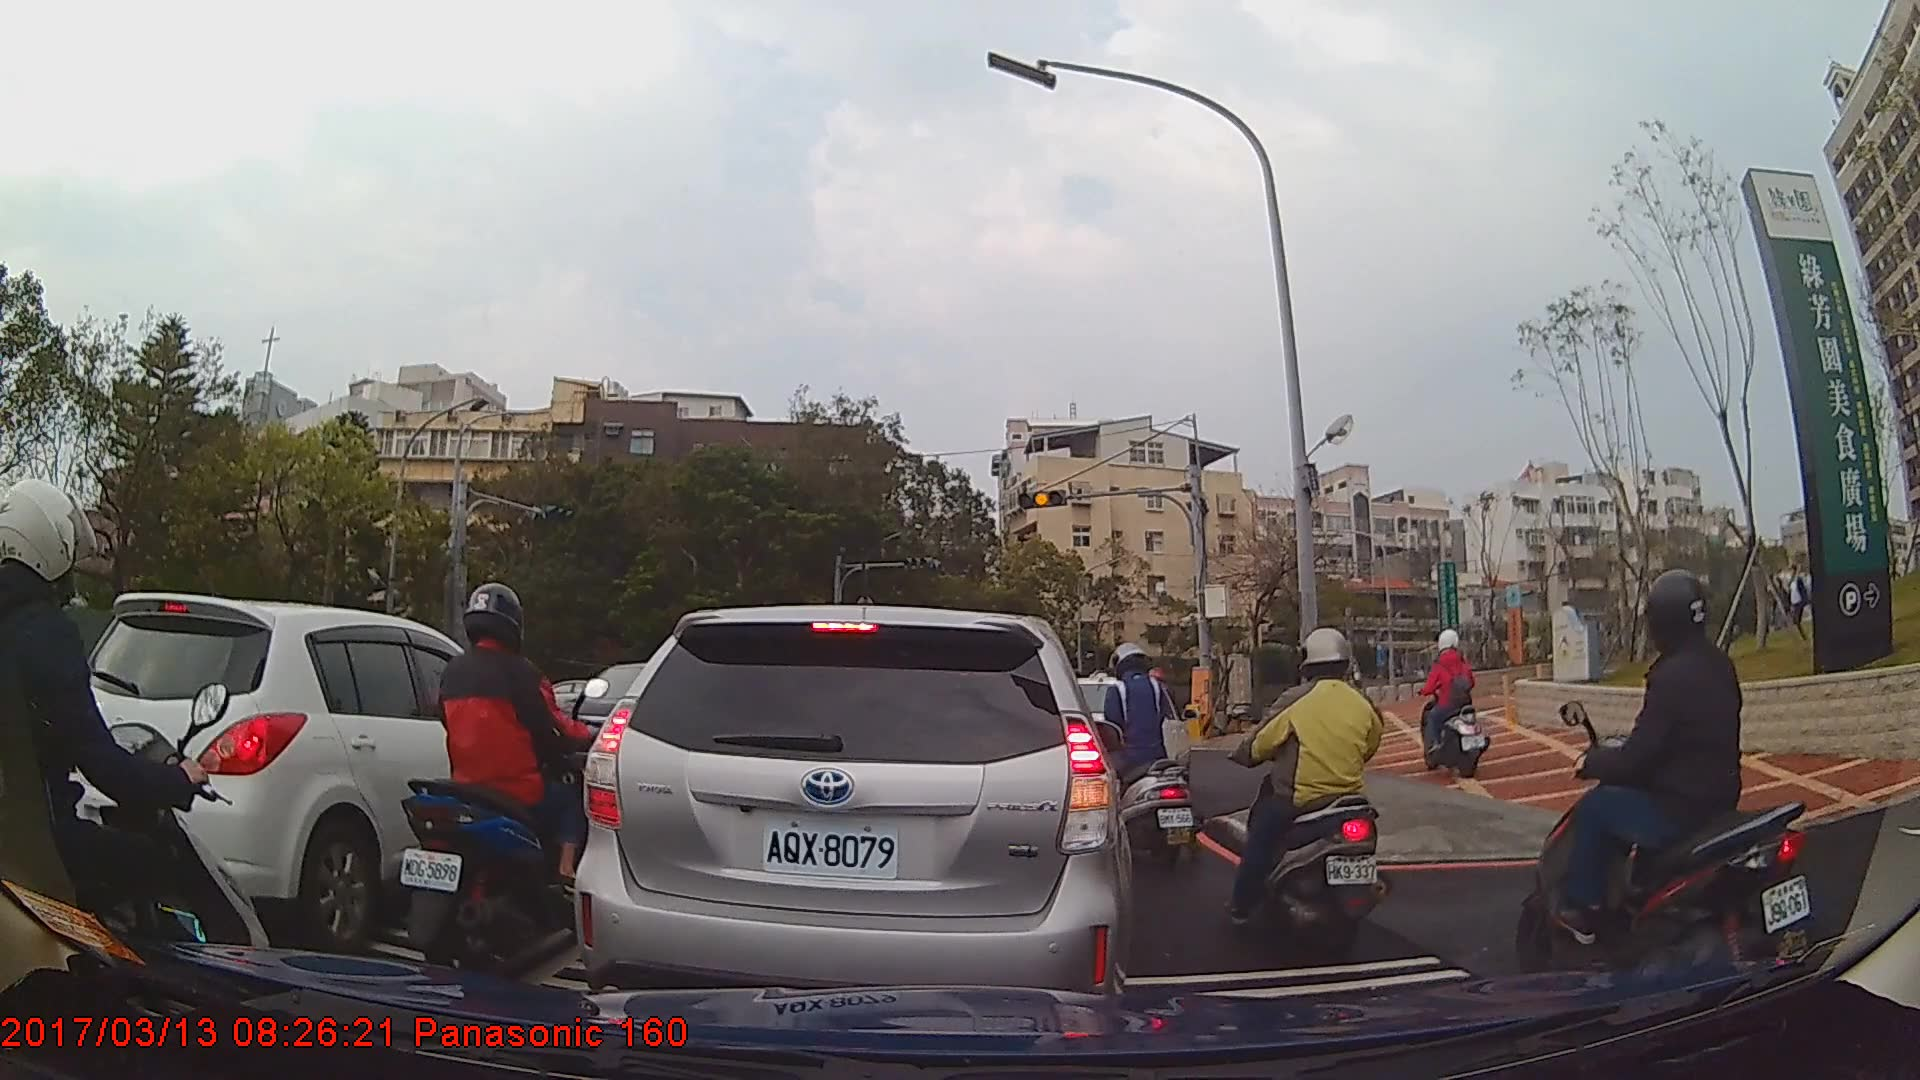pedestrian: (1774, 555, 1816, 628), (1766, 571, 1799, 636)
rider: (1, 474, 276, 1076), (1530, 567, 1826, 1014), (396, 577, 609, 978), (1223, 626, 1397, 945), (1090, 642, 1201, 864), (1415, 630, 1491, 778)
vehicle: (574, 603, 1134, 1024), (44, 591, 579, 955)
